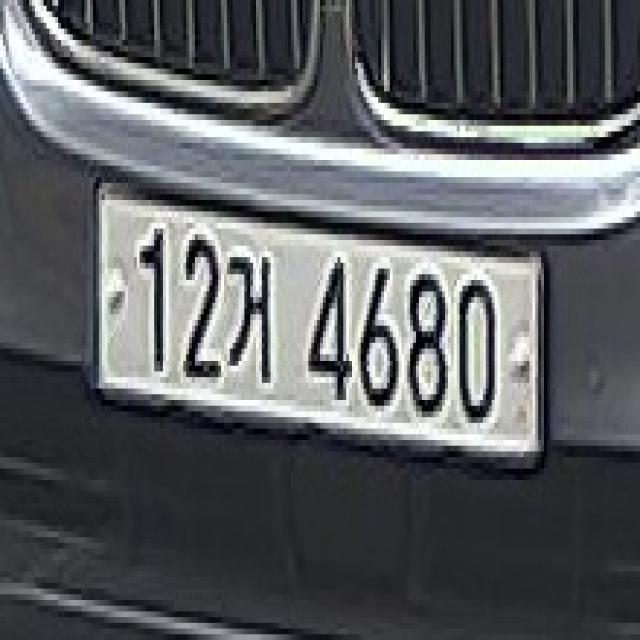0: (451, 257, 503, 434)
1: (128, 212, 175, 388)
2: (177, 223, 227, 394)
4: (302, 252, 358, 417)
6: (352, 263, 407, 428)
8: (404, 268, 451, 428)
geo: (227, 240, 282, 394)
license_plate: (87, 148, 547, 492)
